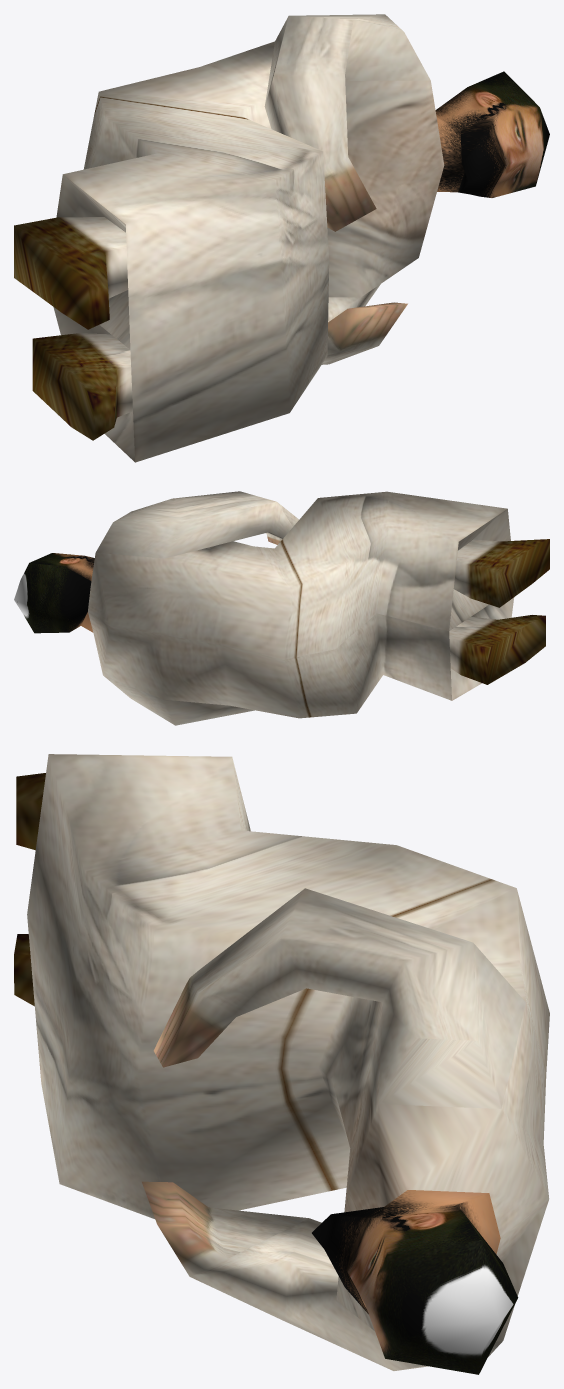
The model's file is man1_3.fbx.
The picture shows the model from 3 angles, top to bottom: view 1: azimuth 30°, elevation 25°; view 2: azimuth 150°, elevation 25°; view 3: azimuth 270°, elevation 25°; orthographic projection. The views are drawn at different scales.
Visible parts, largest first — view 1: man1_3; view 2: man1_3; view 3: man1_3.
Part boxes in pixels (x1=…): man1_3: x1=14, y1=14, x2=549, y2=462; man1_3: x1=14, y1=491, x2=549, y2=725; man1_3: x1=14, y1=754, x2=549, y2=1374.
Size of the model in its own units: 28.35 by 13.44 by 15.8.
